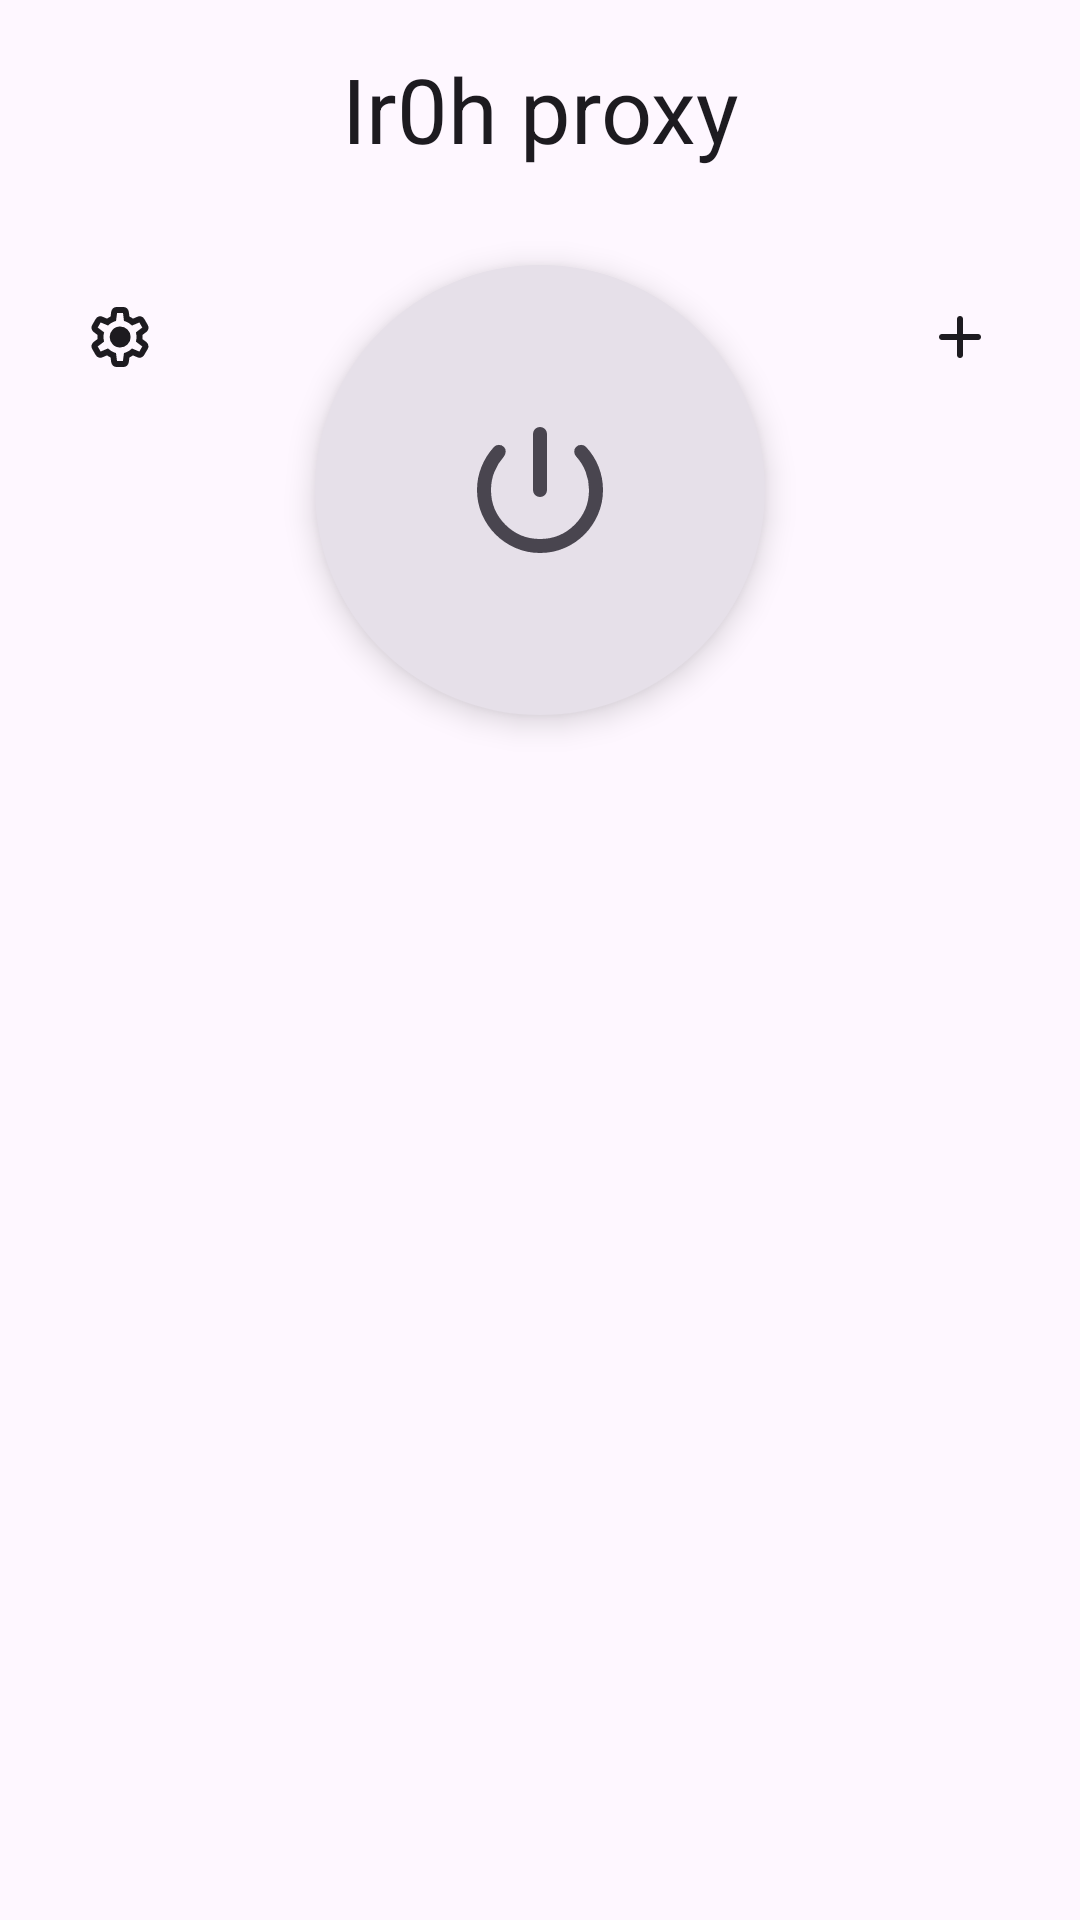

Screen size 1080 x 1920. Icon name, then its center in pixels as (x=x, y=y):
Добавить: (x=960, y=337)
Настройки: (x=120, y=337)
